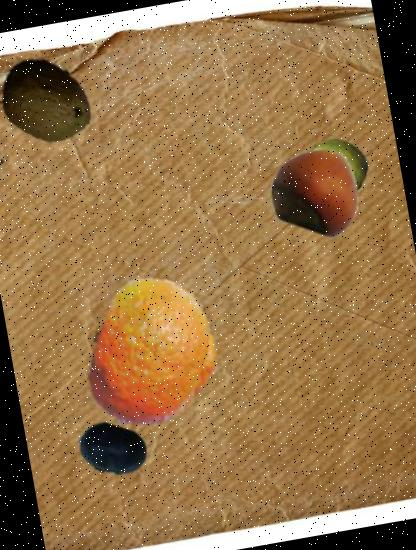Blueberry: (72, 410, 152, 490)
Limes: (300, 131, 374, 204)
Mandarine: (66, 267, 240, 441)
Nut: (266, 136, 370, 240)
Papaya: (0, 43, 104, 158)
